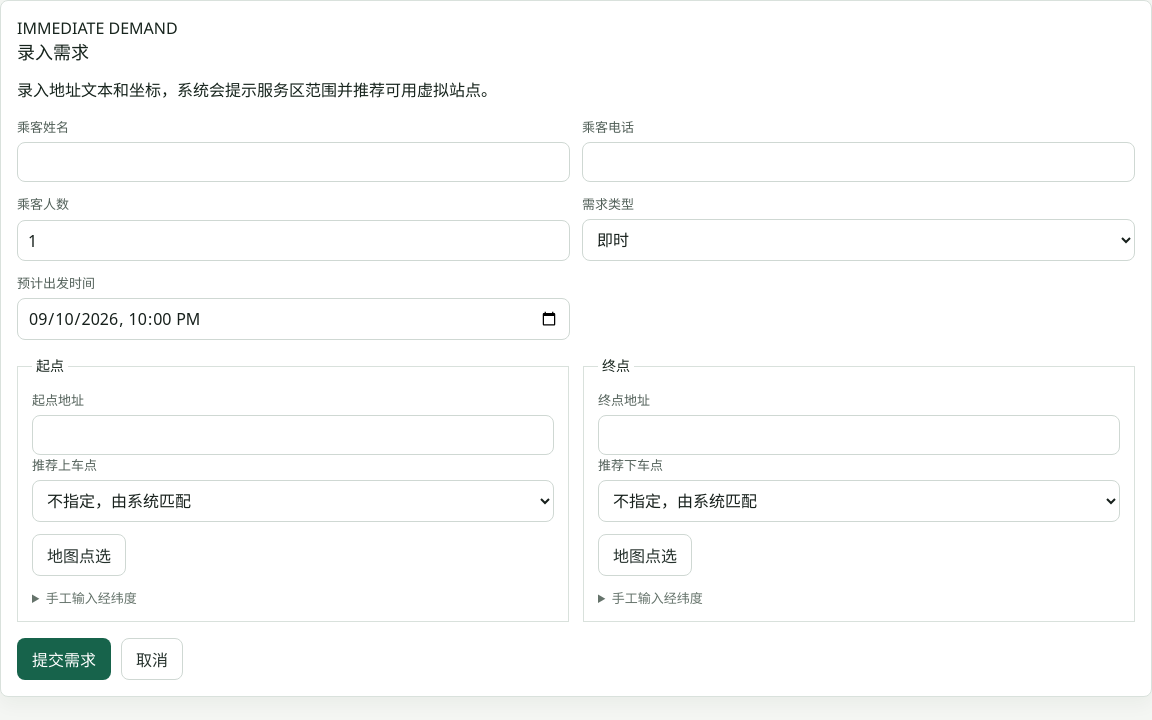
Test case: OrderCreateDialog › shows coordinate validation feedback instead of silently blocking the form
Type "张三" into the field labelled "乘客姓名" at (294, 162), box [17, 142, 570, 182]
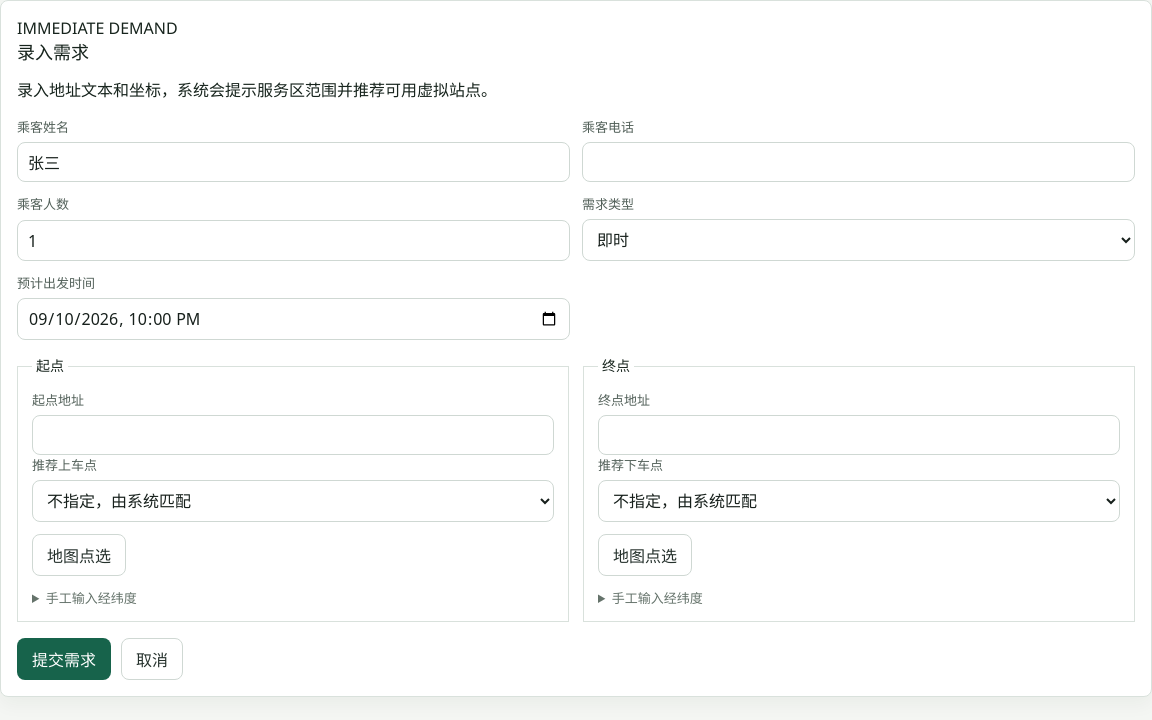
Type "13800000000" into the field labelled "乘客电话" at (858, 162), box [582, 142, 1135, 182]
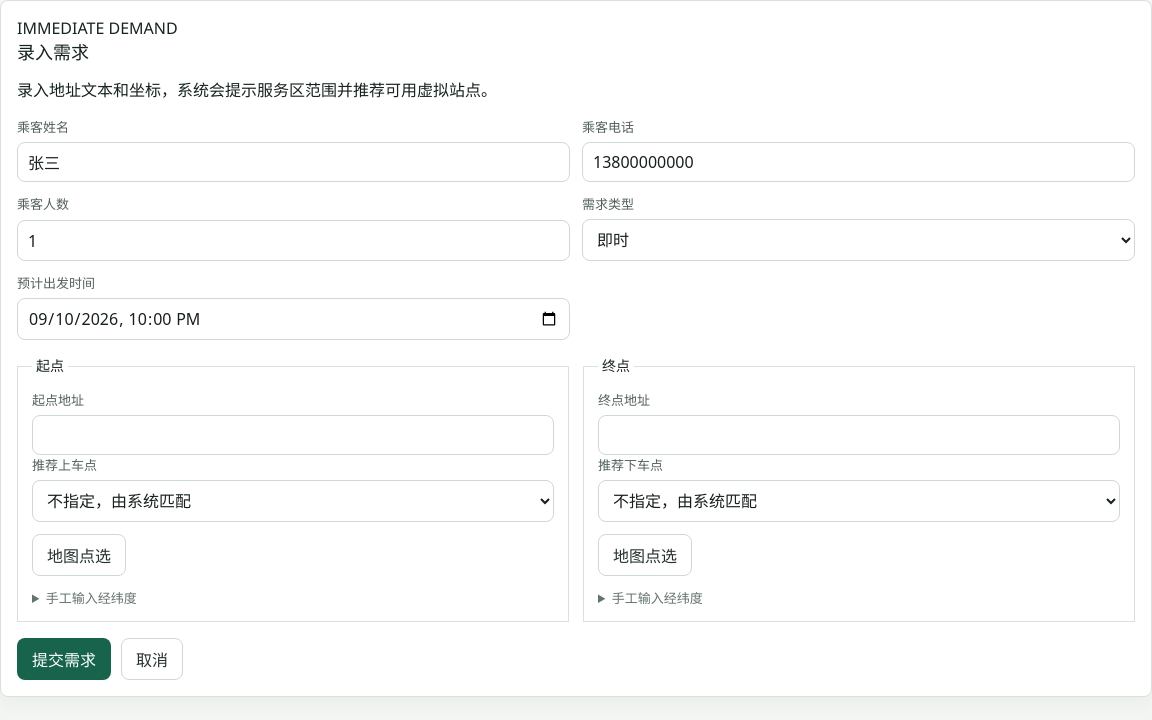
Type "高铁站" into the field labelled "起点地址" at (293, 435), box [32, 415, 554, 455]
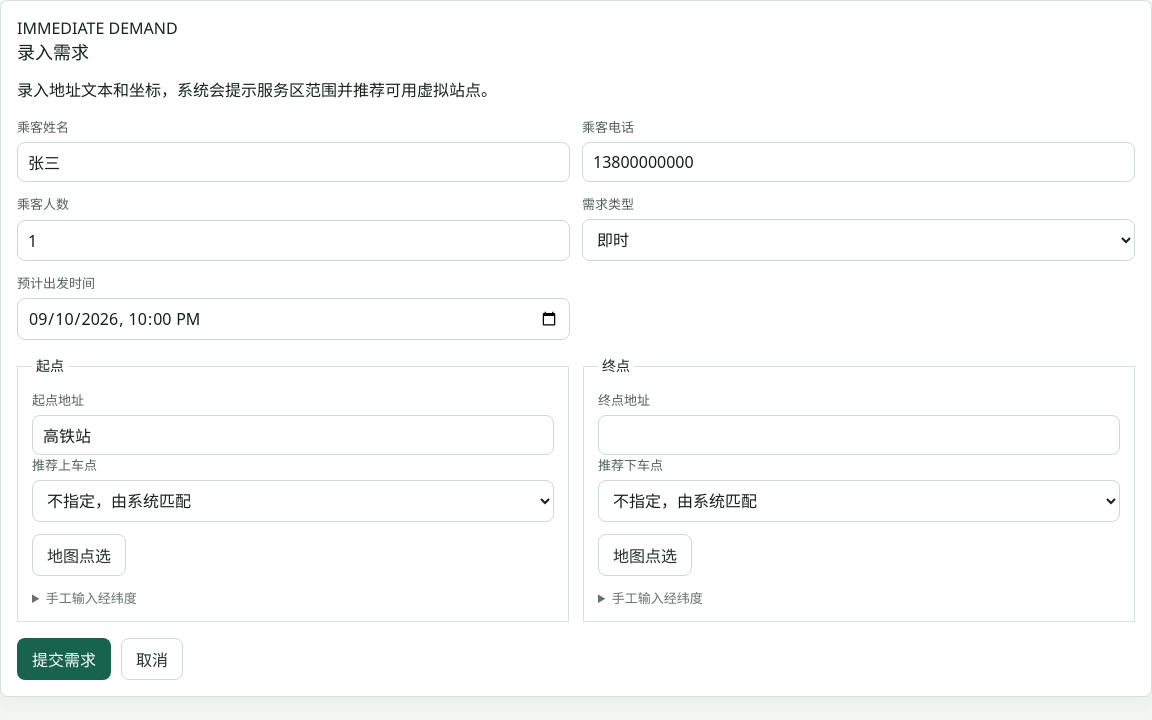
Type "陇阳" into the field labelled "终点地址" at (859, 435), box [598, 415, 1120, 455]
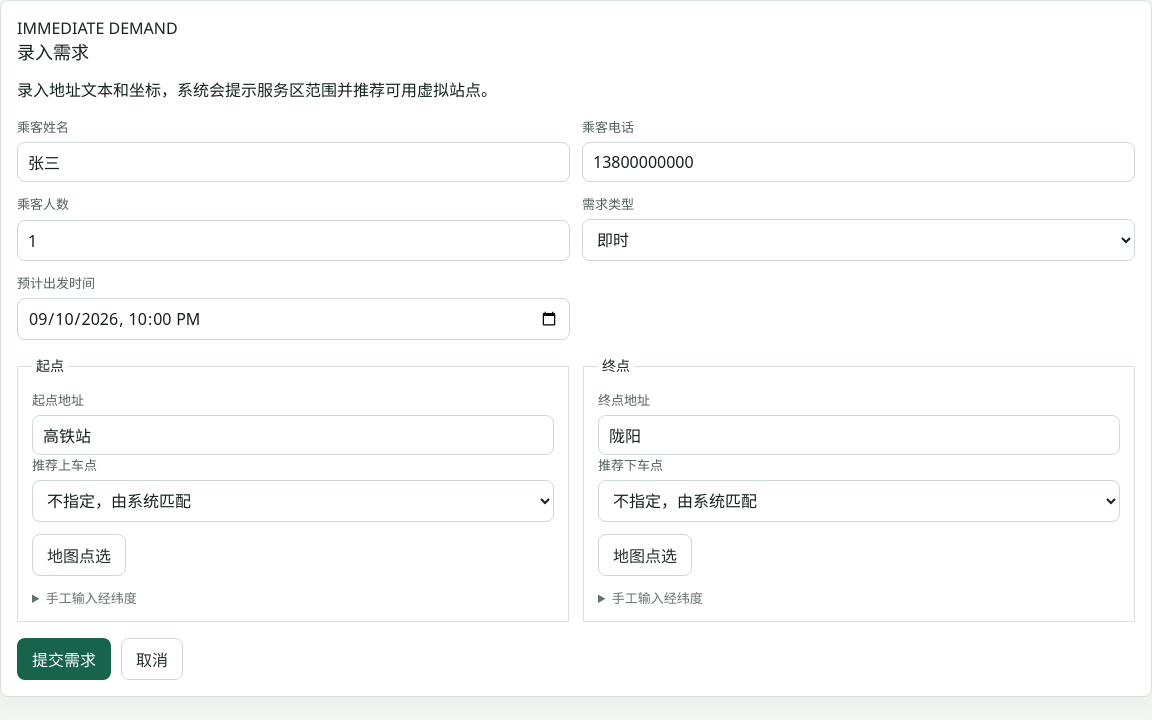
Click the button "提交需求" at (64, 659), box [17, 638, 111, 680]
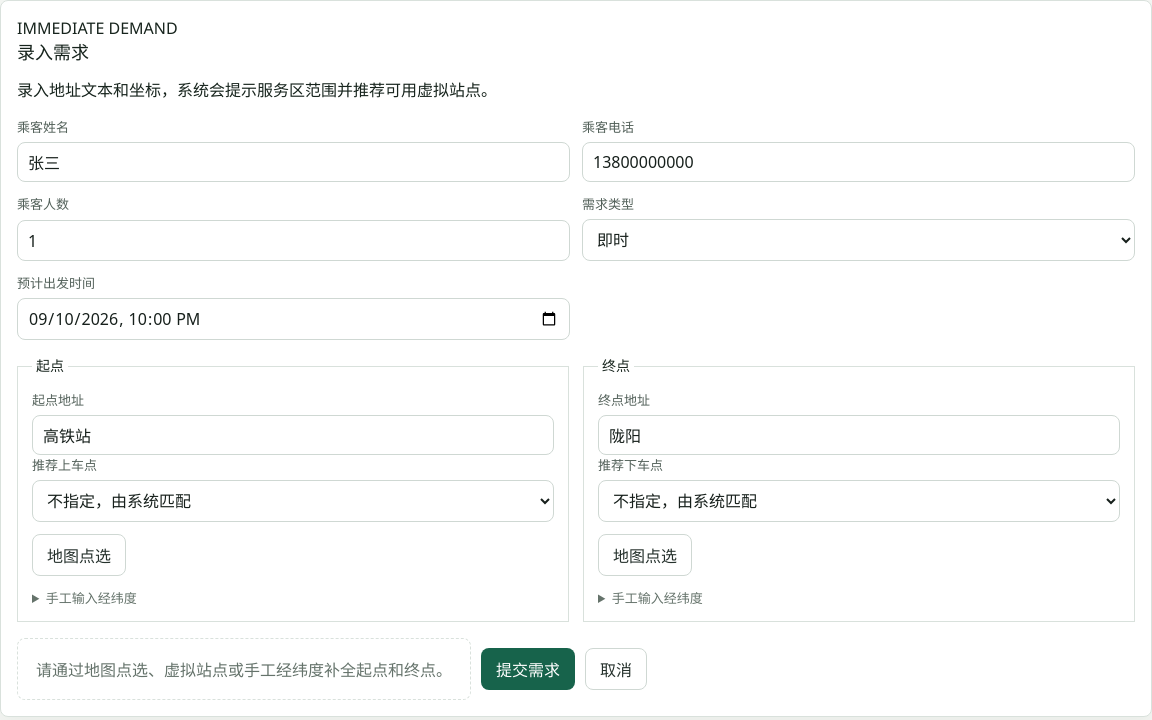
Expected: the message reads "请通过地图点选、虚拟站点或手工经纬度补全起点和终点。", [36, 659, 452, 681]
